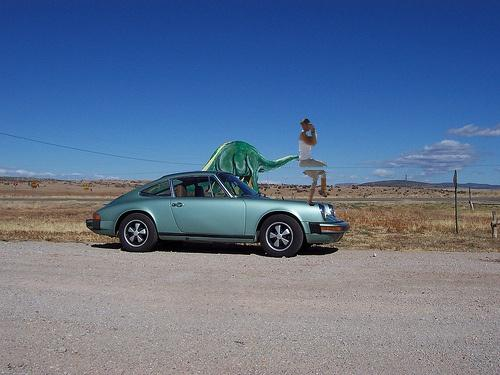tampered: (300, 120, 327, 206)
